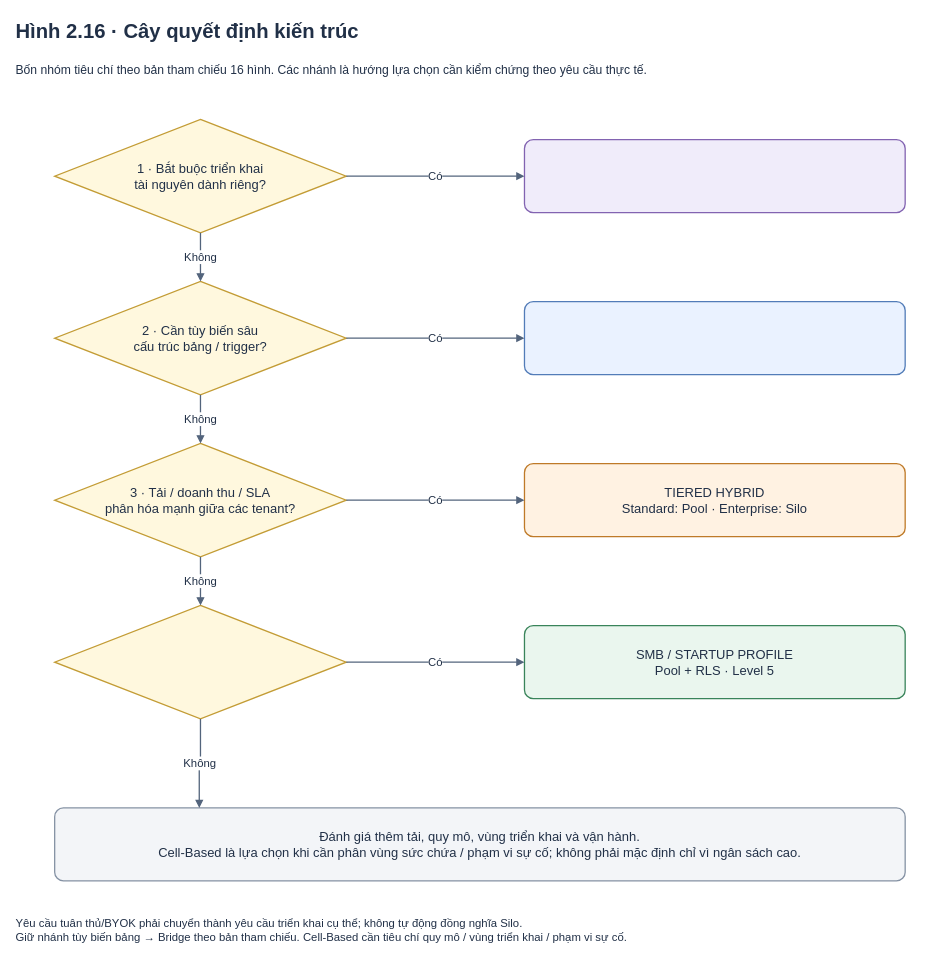
The diagram is 951 pixels wide and 969 high, and some of its shapes have lost their labels. Each missing label, with the centre of its shape:
4 · SMB / ARPU thấp, ưu tiên tối ưu TCO?: the point at 200,661
SCHEMA-PER-TENANT · BRIDGE Schema riêng cho từng tenant: the point at 714,338
SILO PROFILE · Level 2 Dedicated Compute + Dedicated DB: the point at 714,176
